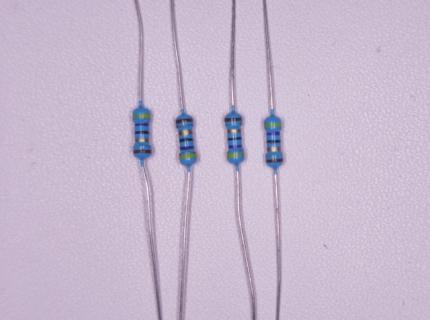Black band: (135, 130, 149, 135), (228, 136, 242, 140), (180, 138, 193, 142), (267, 139, 280, 143)
Brown band: (176, 118, 193, 123), (225, 117, 242, 122), (266, 158, 283, 163), (134, 150, 151, 154)
Gold band: (267, 146, 280, 152), (179, 130, 192, 136), (228, 129, 241, 134), (135, 138, 148, 143)
Violet band: (266, 131, 281, 136), (179, 146, 194, 151), (229, 145, 242, 148), (136, 123, 148, 126)
Yellow band: (180, 153, 196, 159), (133, 114, 150, 119), (228, 153, 244, 158), (265, 123, 281, 127)
